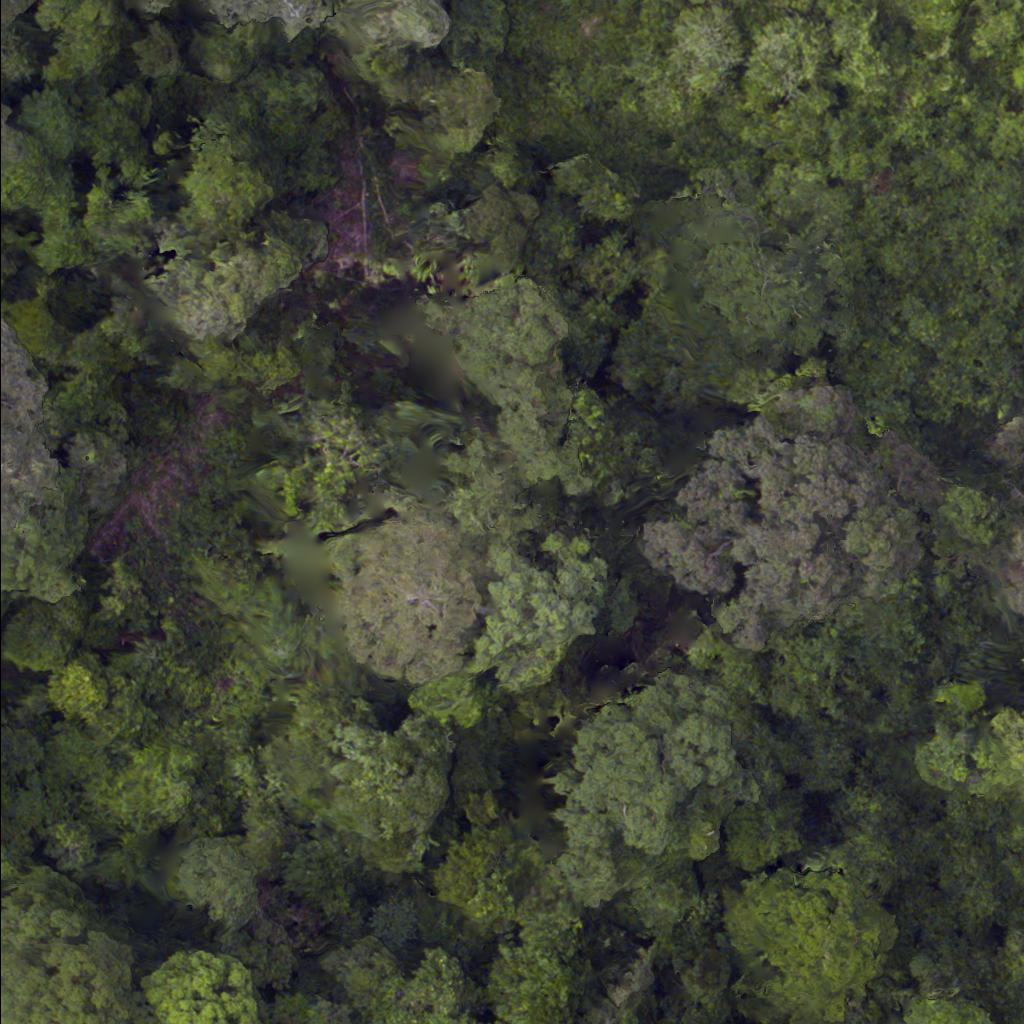crown: (548, 669, 807, 918), (671, 401, 936, 623), (720, 850, 905, 1023), (311, 508, 486, 685), (458, 538, 623, 702), (0, 876, 154, 1023), (308, 717, 460, 851), (425, 789, 546, 931), (314, 927, 489, 1023), (481, 907, 604, 1023), (161, 832, 265, 939), (147, 949, 255, 1023), (962, 697, 1023, 809), (888, 990, 1005, 1023), (370, 889, 429, 951), (1013, 538, 1023, 615)
